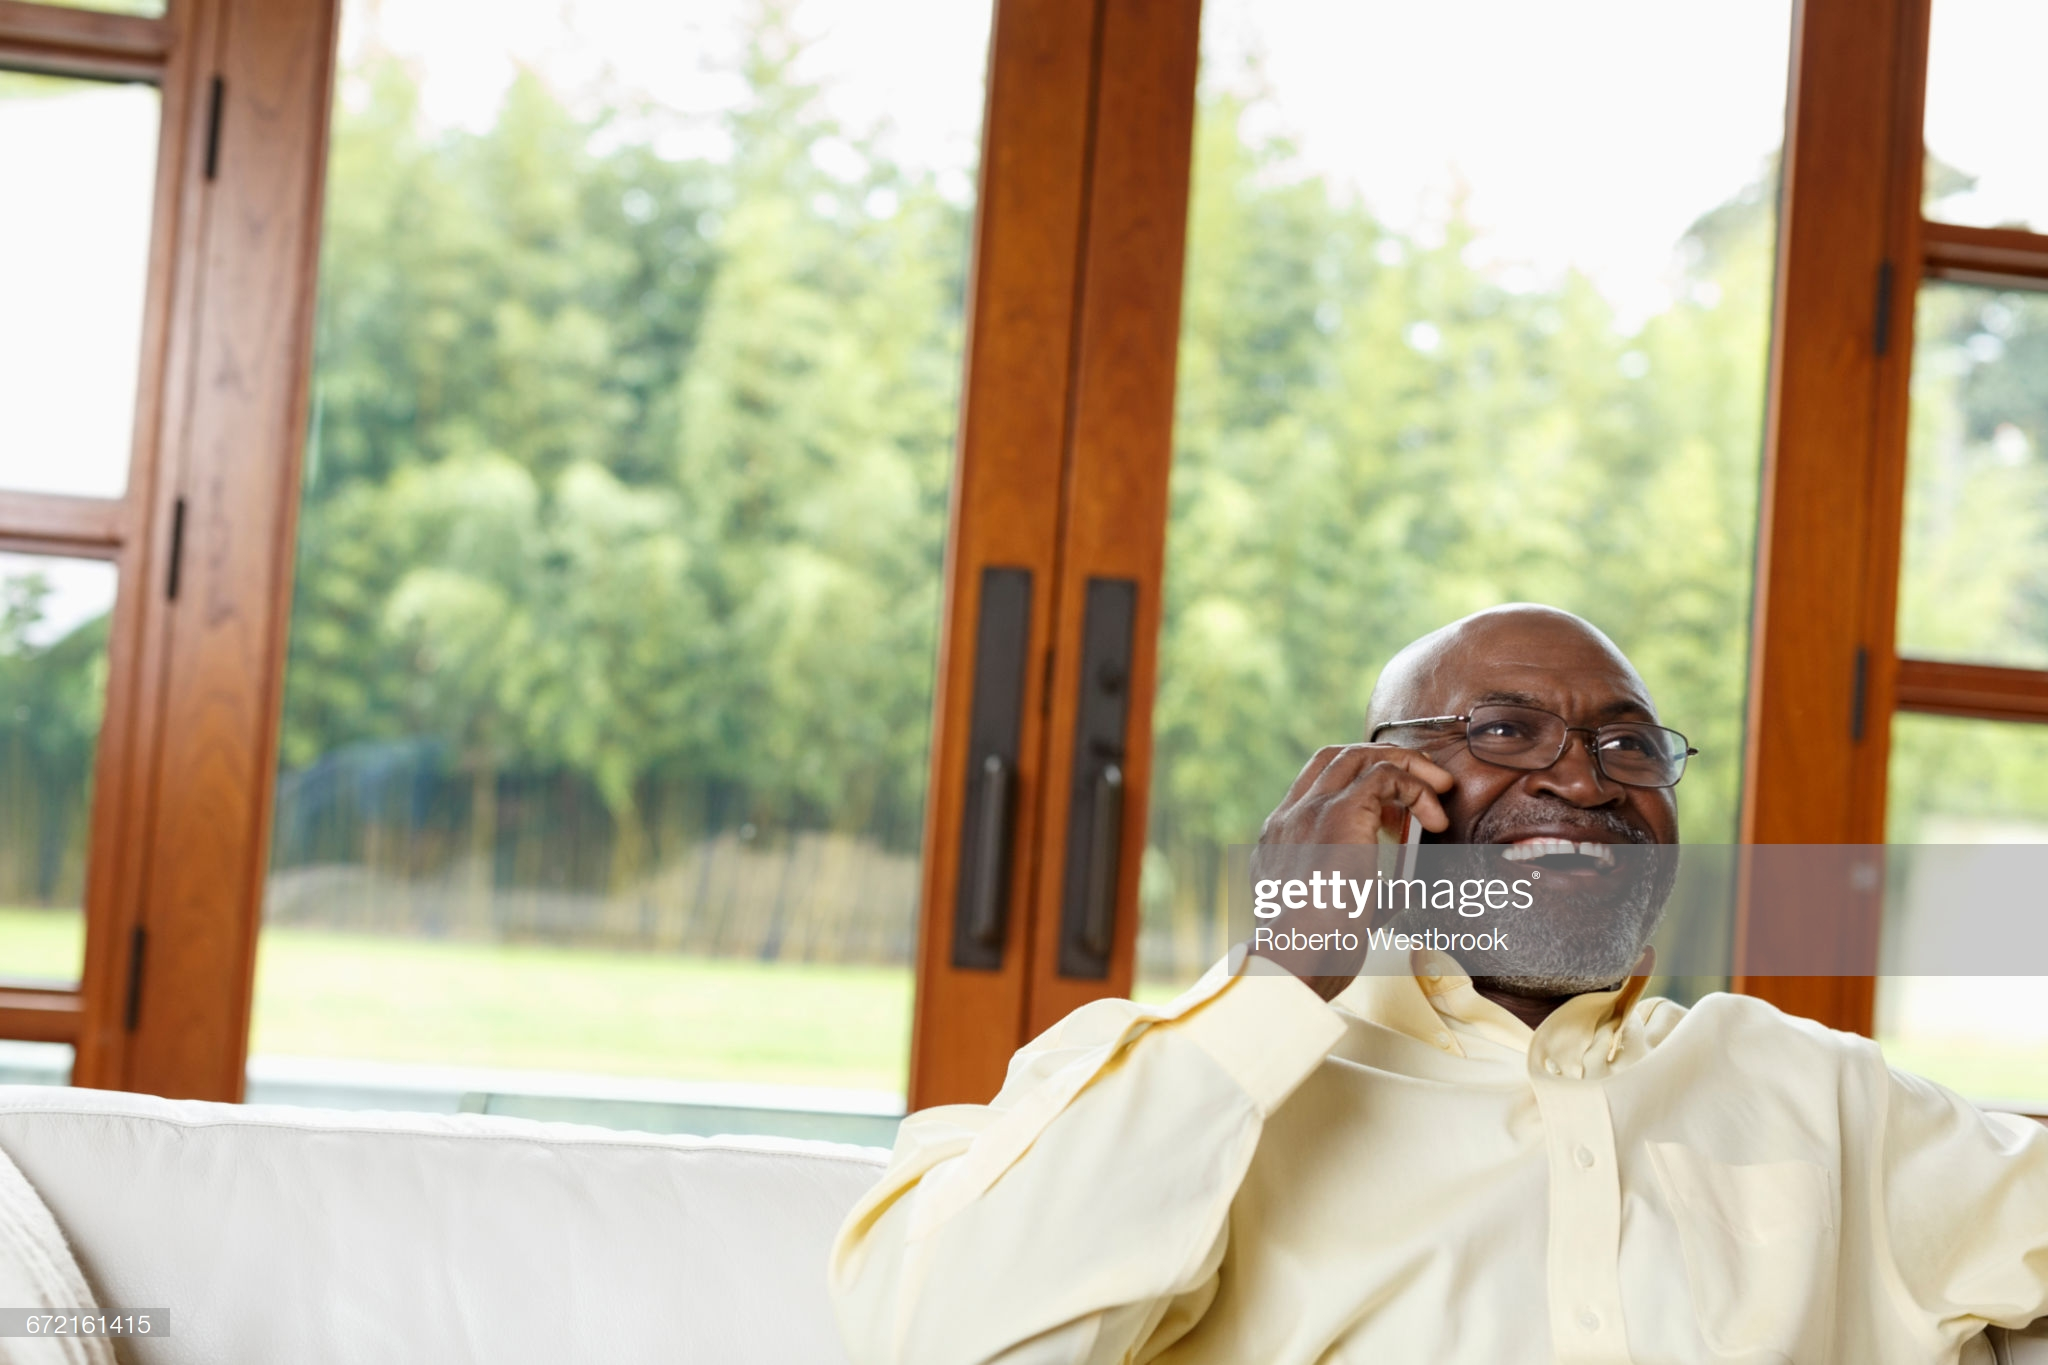phone: (1311, 743, 1440, 923)
talk: (1253, 663, 1696, 1009)
